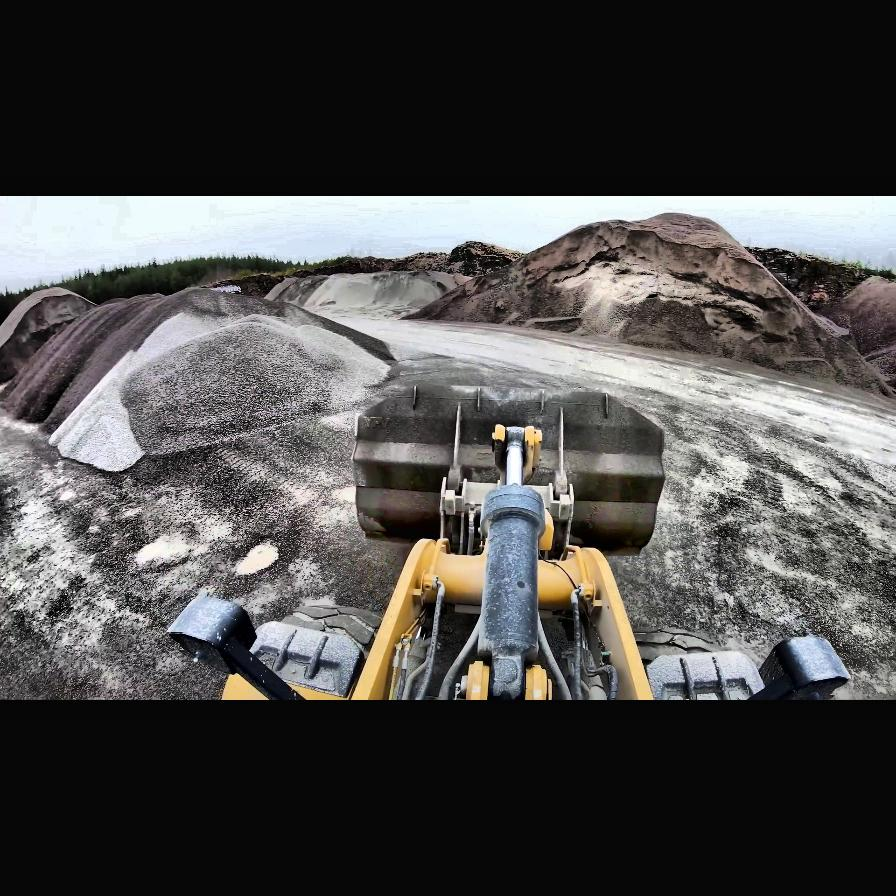anchor: (492, 424, 542, 486)
pile of gravel: (408, 214, 892, 402), (4, 285, 398, 479), (275, 270, 459, 316)
